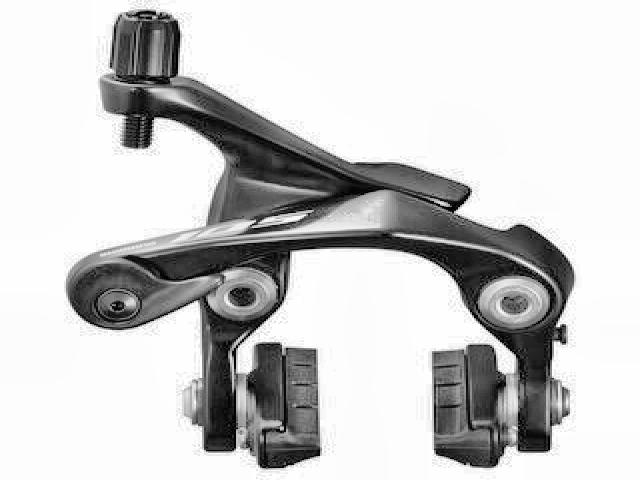rim_brake: (63, 8, 578, 470)
